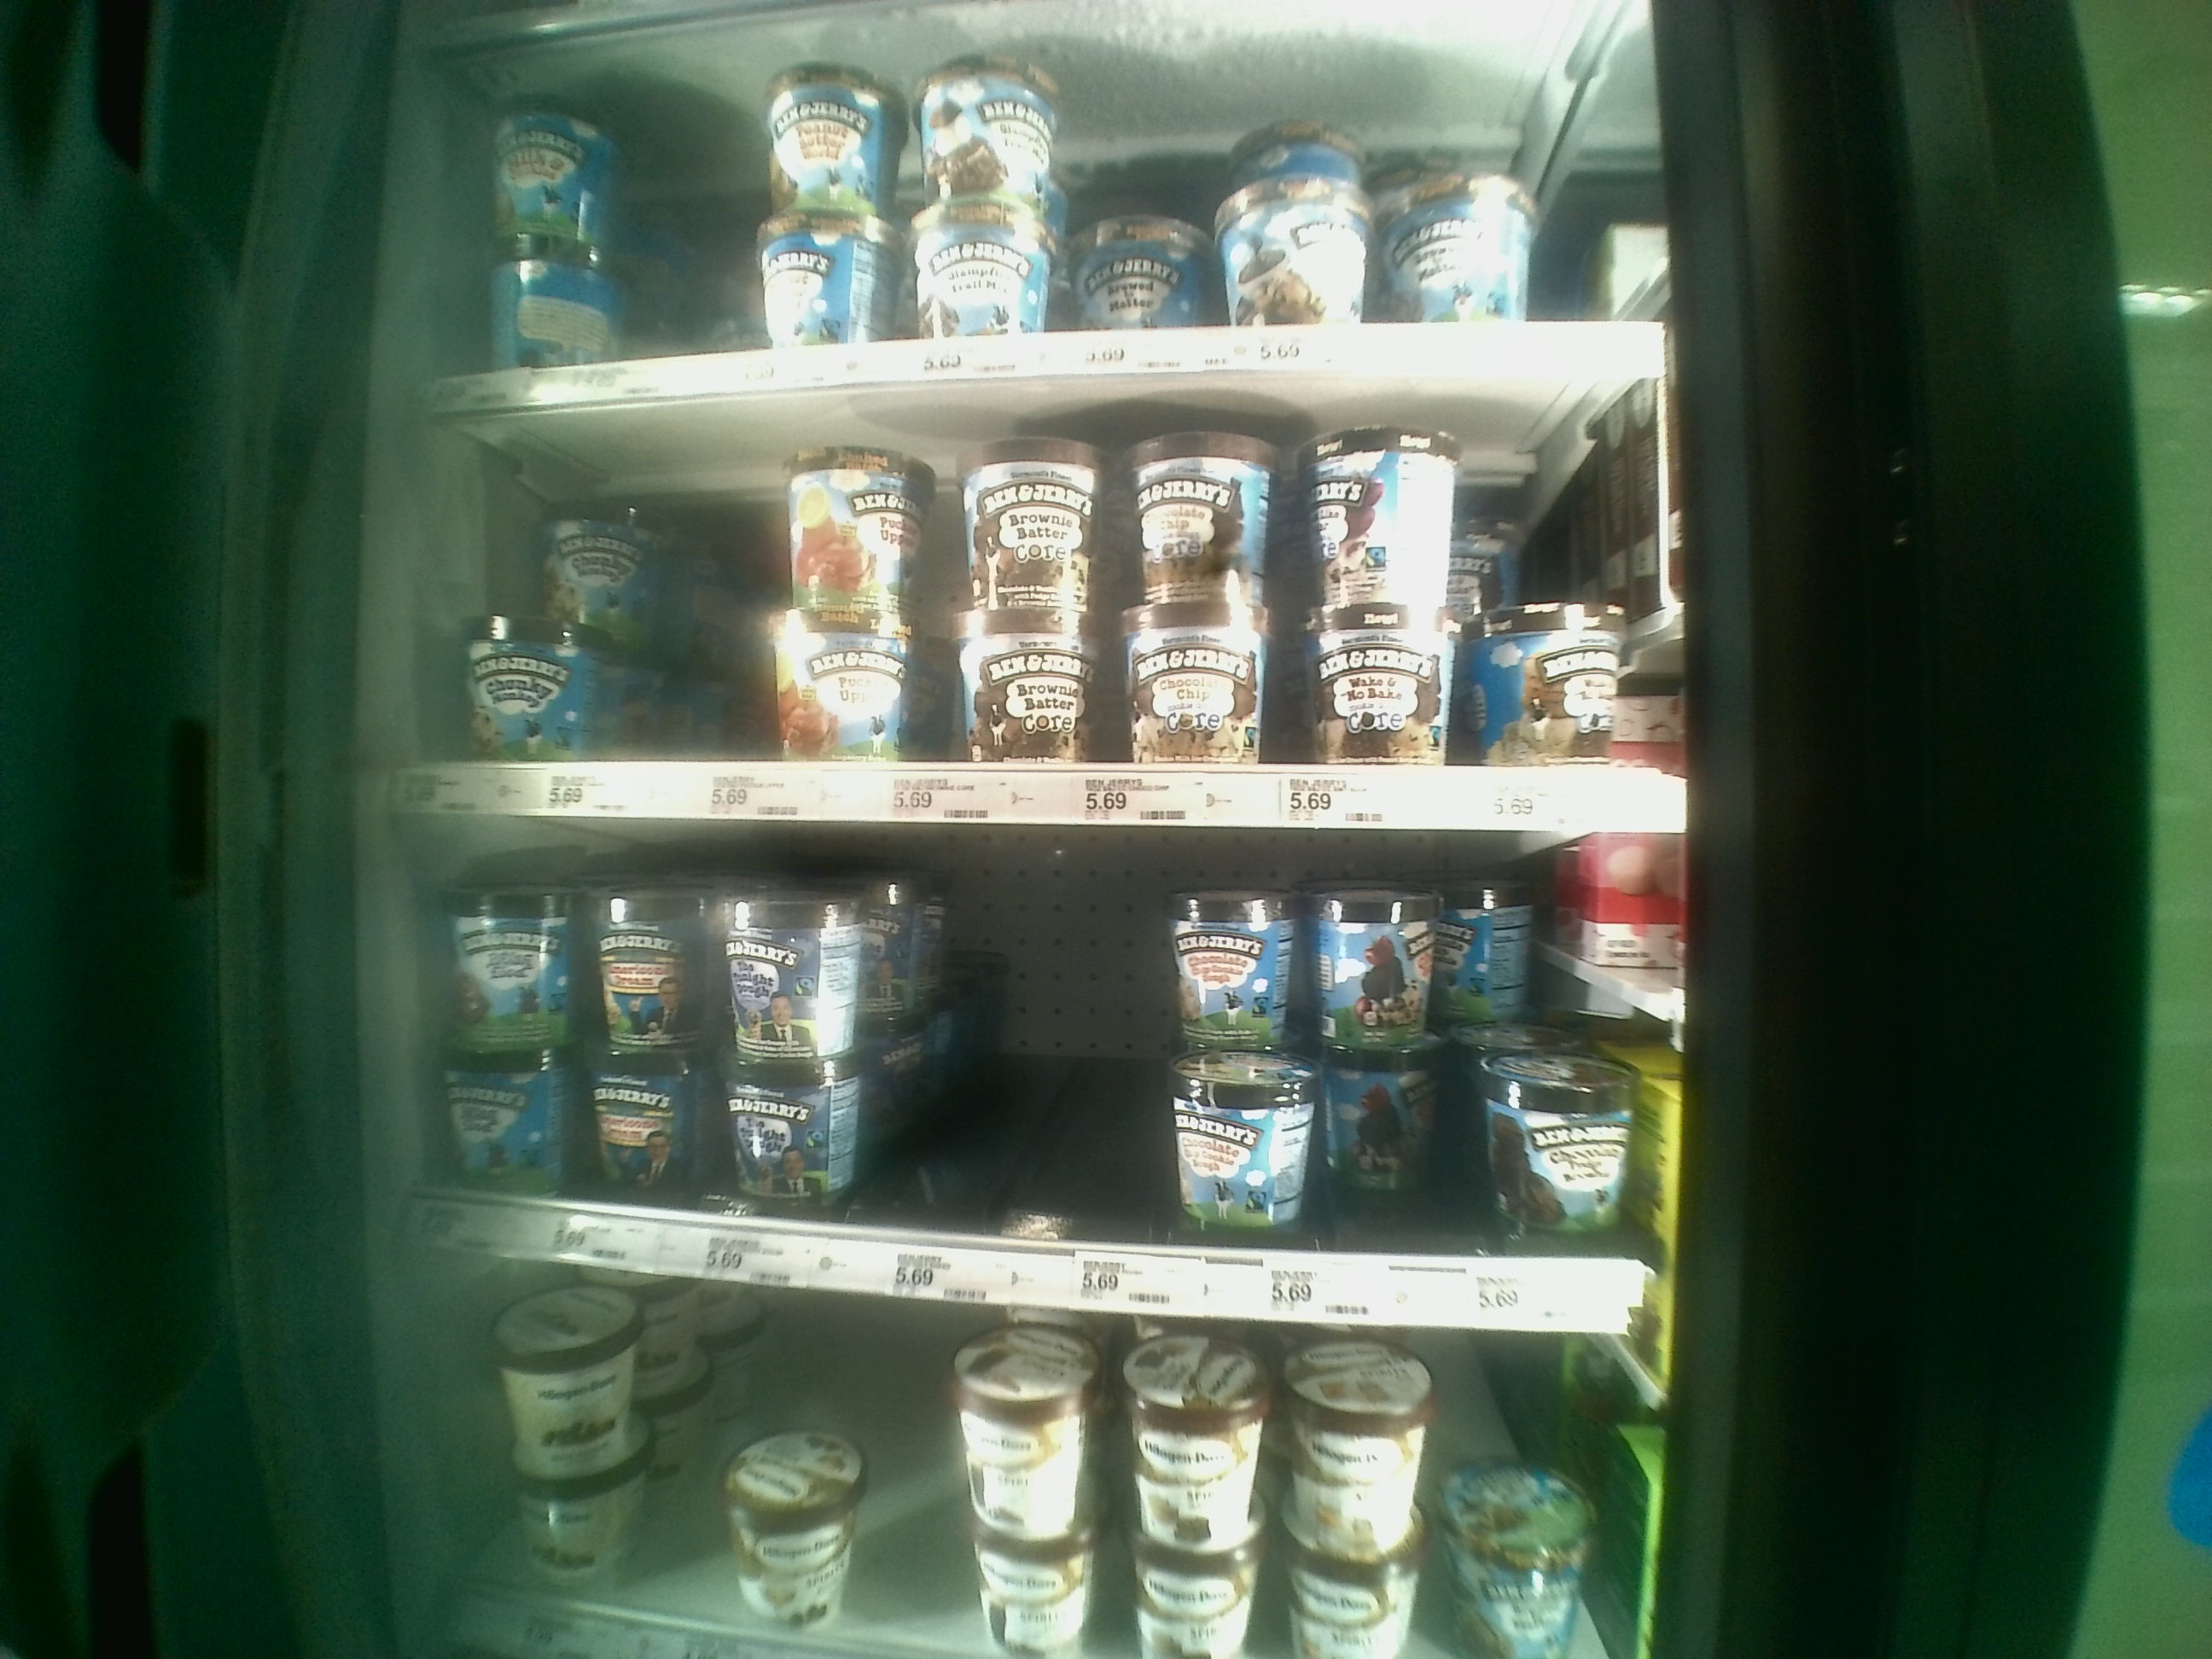ice-cream-shelf: (406, 819, 1674, 1338), (404, 403, 1689, 817)
